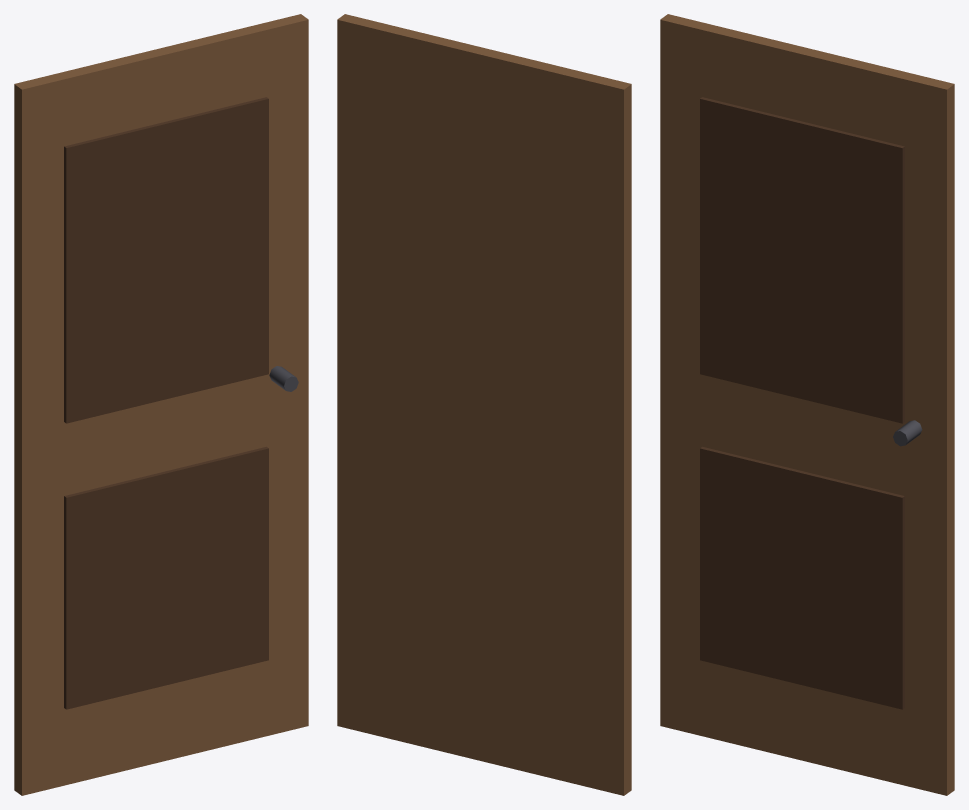
File: SM_P0_Door_A.obj
3 renders of one model, left to right at view 1: azimuth 30°, elevation 25°; view 2: azimuth 150°, elevation 25°; view 3: azimuth 330°, elevation 25°, orthographic.
Parts seen in each view (by area): view 1: leaf_body, panel_upper, panel_lower; view 2: leaf_body; view 3: leaf_body, panel_upper, panel_lower.
Part boxes in pixels (x1,y1,x2,y2): leaf_body: (14,14,308,795); panel_upper: (64,97,268,423); panel_lower: (64,446,268,709); leaf_body: (337,14,631,795); leaf_body: (660,14,954,795); panel_upper: (700,97,904,423); panel_lower: (700,446,904,709).
Size of the model in its own units: 0.85 by 2 by 0.115.
